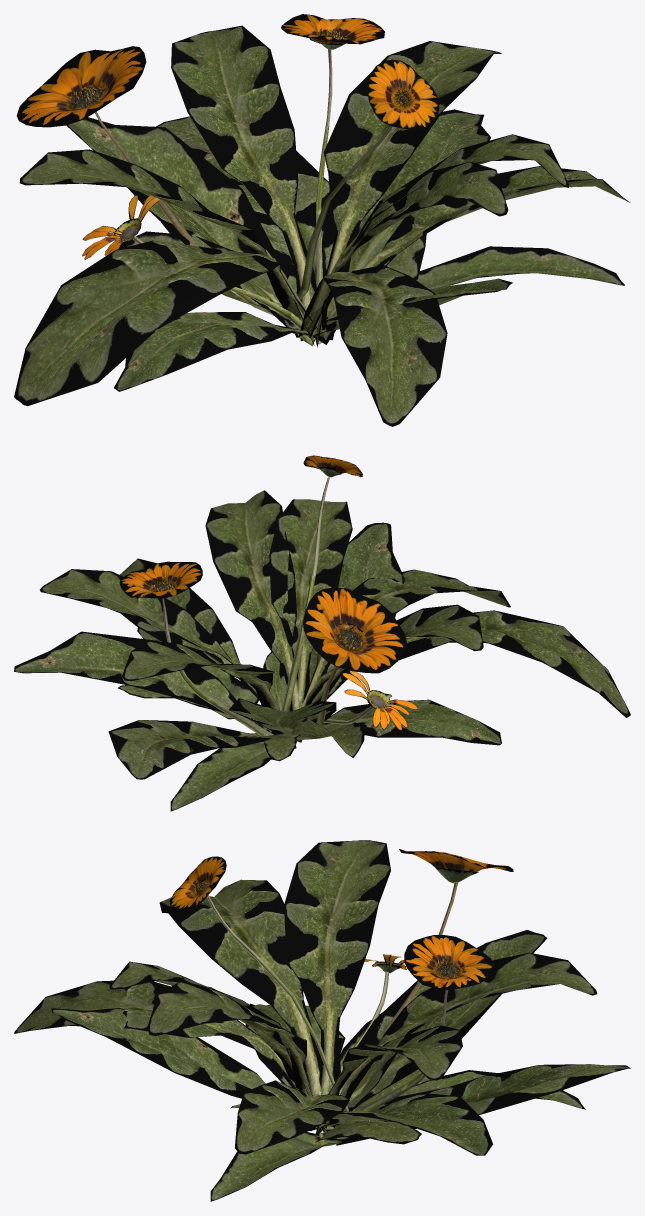
Rendered from flower_gazania_04.glb.
The picture shows the model from 3 angles, top to bottom: view 1: azimuth 30°, elevation 25°; view 2: azimuth 150°, elevation 25°; view 3: azimuth 270°, elevation 25°; orthographic projection. The views are drawn at different scales.
Parts seen in each view (by area): view 1: flower_gazania; view 2: flower_gazania; view 3: flower_gazania.
Part boxes in pixels (x1,y1,x2,y2): flower_gazania: (14, 14, 630, 426); flower_gazania: (14, 455, 630, 811); flower_gazania: (14, 840, 630, 1201).
Size of the model in its own units: 0.3376 by 0.1655 by 0.3262.
Materials: 1 (1 with a texture image).
